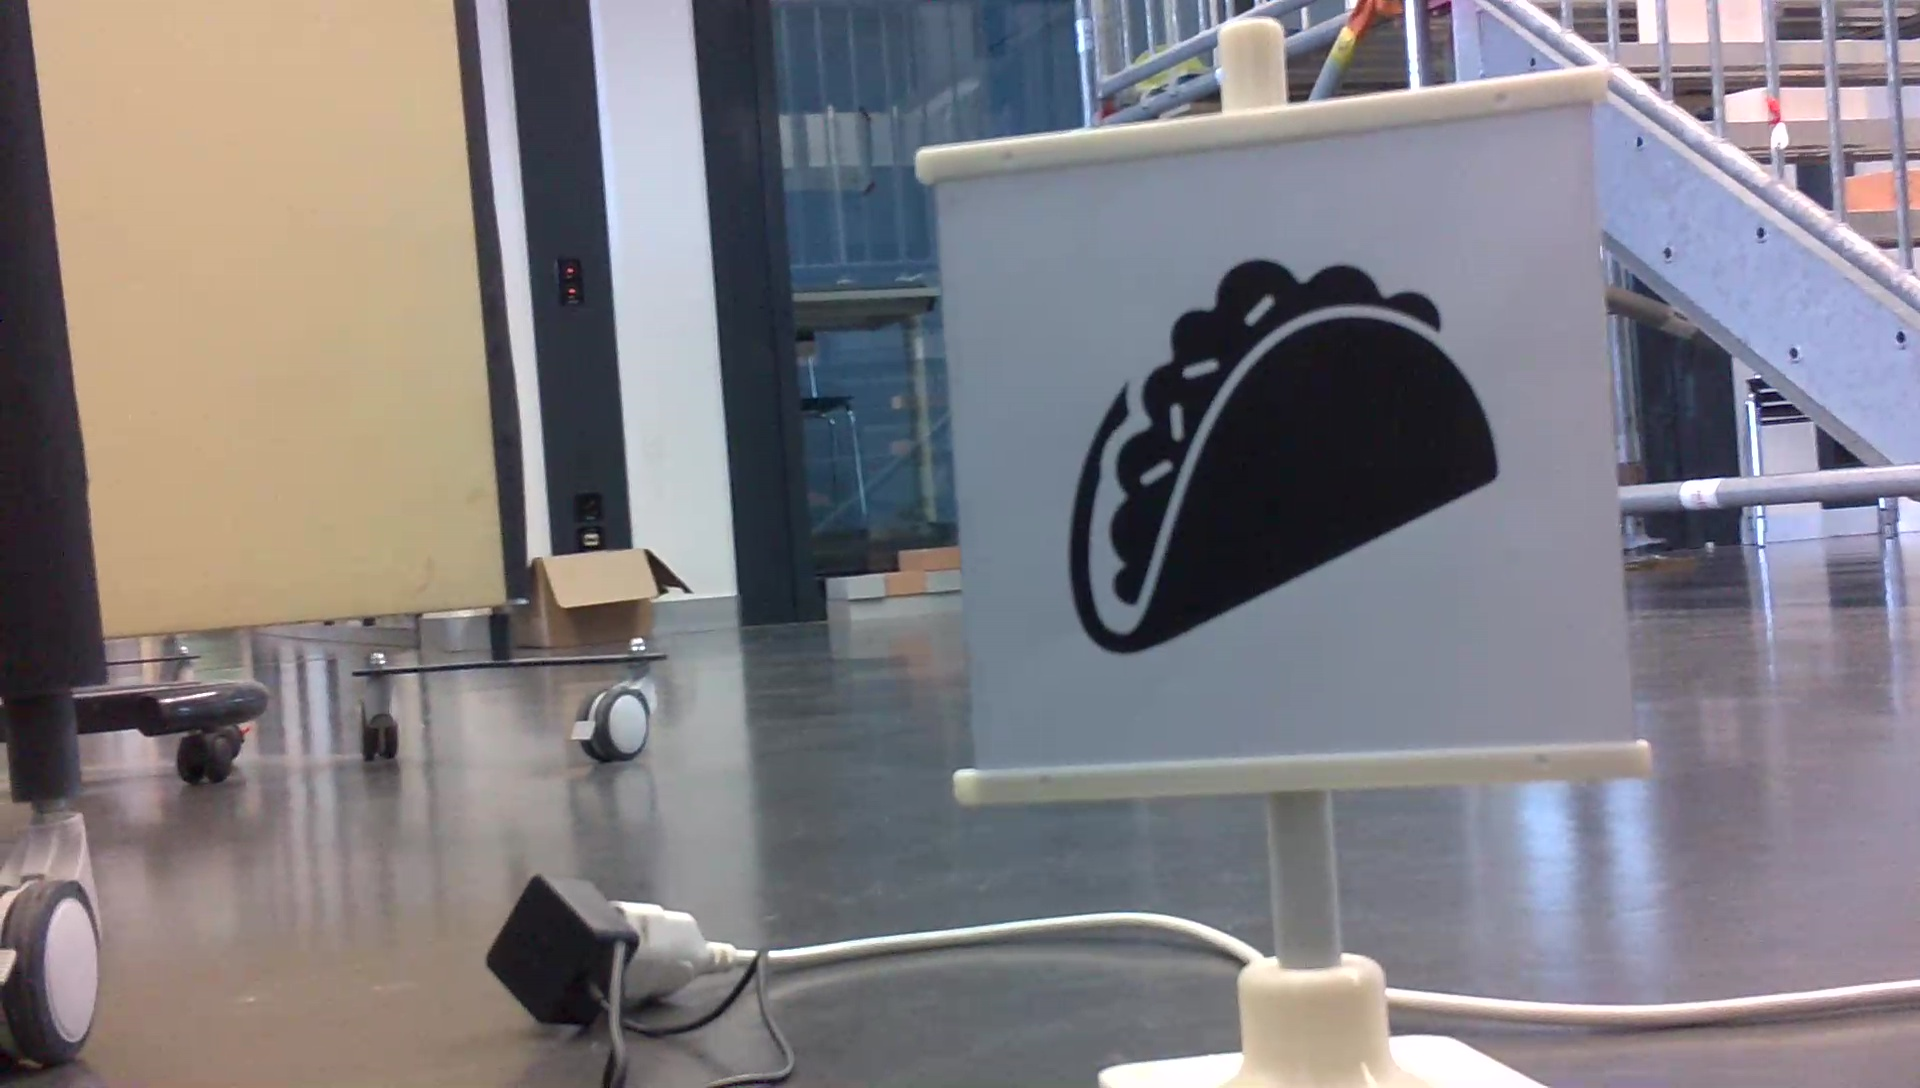taco: (1055, 248, 1513, 661)
